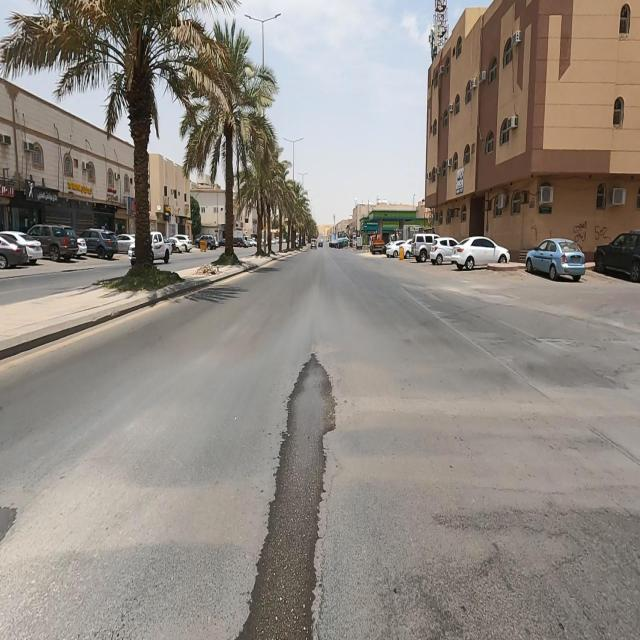Graffiti: (574, 220, 589, 245), (596, 225, 612, 244)
